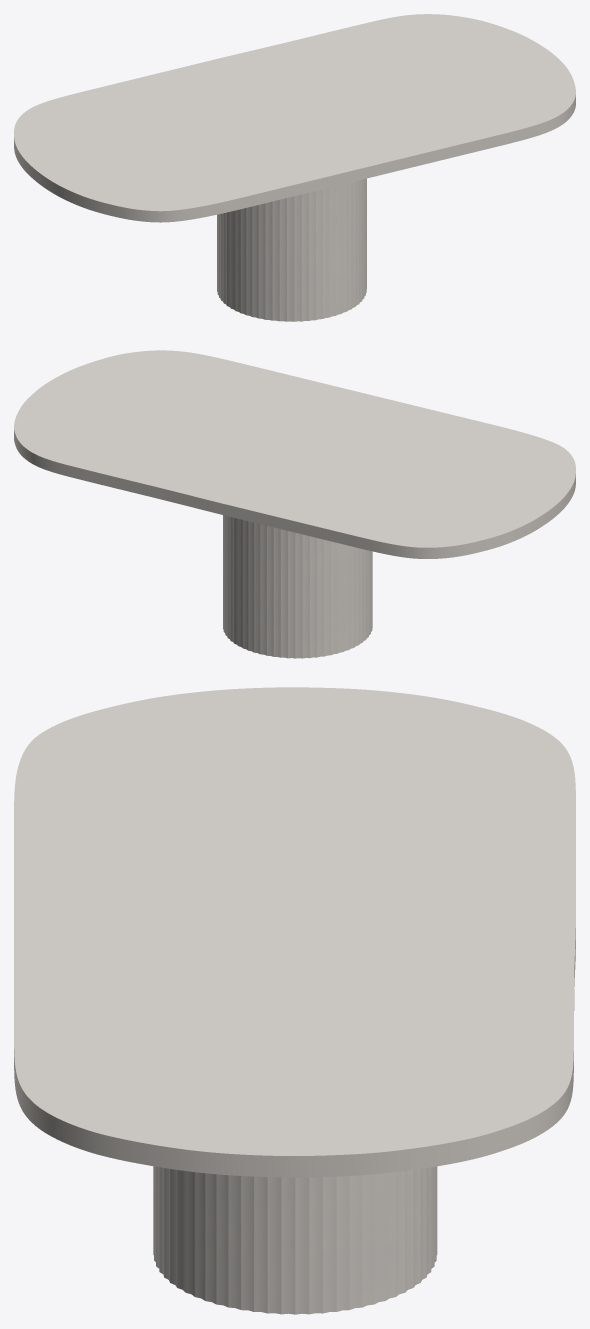
File: pearlwhite_oval_standard_ripple.glb
3 renders of one model, top to bottom at view 1: azimuth 30°, elevation 25°; view 2: azimuth 150°, elevation 25°; view 3: azimuth 270°, elevation 25°, orthographic. The views are drawn at different scales.
Parts seen in each view (by area): view 1: standard_oval, ripple; view 2: standard_oval, ripple; view 3: standard_oval, ripple.
Boxes of the visible parts, <box> form: standard_oval: <box>14,14,575,222</box>; ripple: <box>217,178,366,321</box>; standard_oval: <box>14,350,575,558</box>; ripple: <box>223,515,372,658</box>; standard_oval: <box>14,687,575,1177</box>; ripple: <box>153,1166,437,1314</box>.
Size of the model in its own units: 7.5 by 2.5 by 3.8.
Materials: 1 (1 with a texture image).
